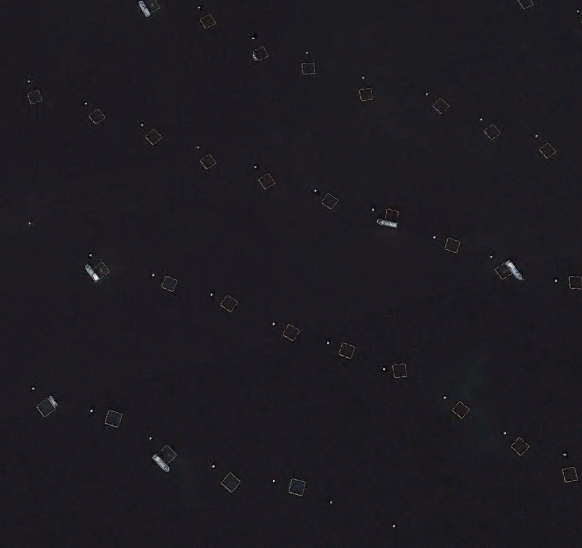ship: (503, 257, 529, 283), (145, 449, 172, 474), (129, 1, 155, 25), (83, 258, 102, 284), (374, 216, 399, 229)
square: (76, 255, 118, 291), (98, 402, 132, 441), (489, 254, 524, 288), (37, 389, 70, 425), (194, 151, 229, 184), (151, 440, 184, 475), (221, 466, 251, 503), (504, 429, 534, 464), (442, 388, 472, 422), (419, 91, 456, 118), (272, 315, 302, 348), (382, 353, 412, 386), (471, 114, 504, 143), (328, 332, 357, 365), (287, 475, 317, 506), (372, 204, 404, 232), (156, 271, 186, 299), (210, 290, 238, 318), (81, 102, 108, 131), (533, 134, 559, 164), (434, 231, 461, 257), (243, 40, 273, 63), (320, 187, 343, 217), (352, 79, 378, 104), (252, 170, 278, 195), (142, 123, 167, 148), (196, 8, 221, 31), (559, 459, 582, 483), (22, 84, 45, 106), (297, 56, 319, 77)
